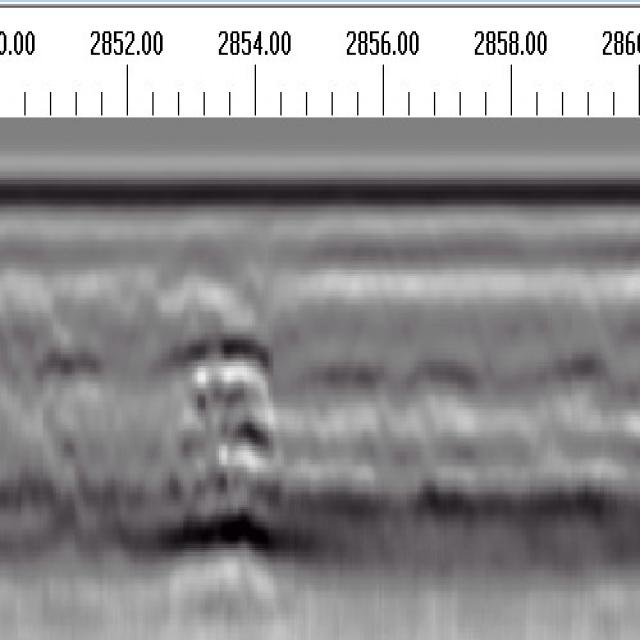loose: (133, 320, 303, 574)
